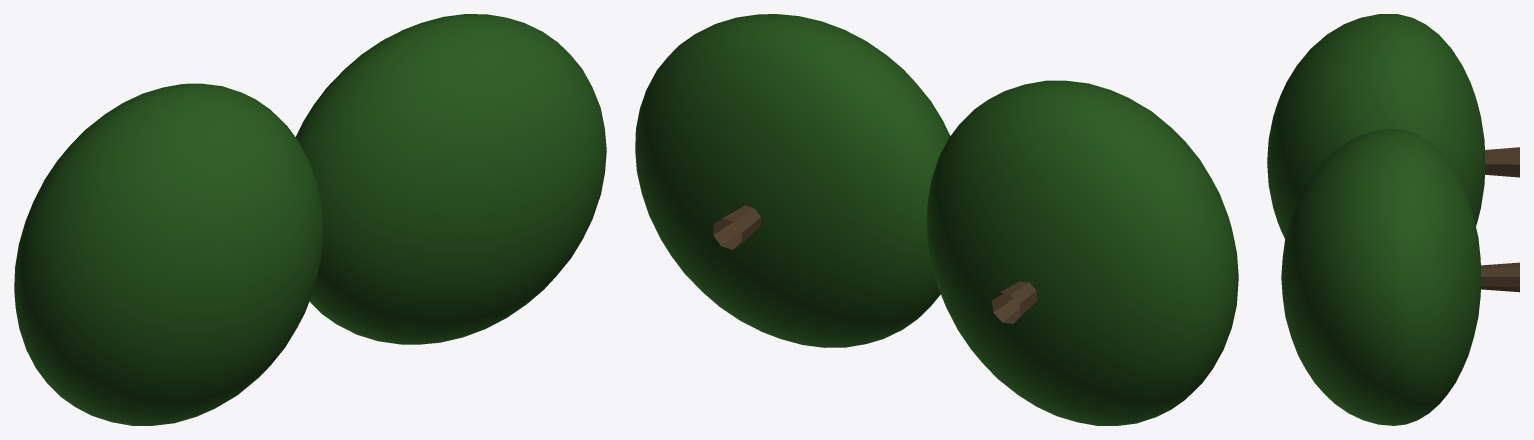
Rendered from citrus_plain2_e.obj.
3 renders of one model, left to right at view 1: azimuth 30°, elevation 25°; view 2: azimuth 150°, elevation 25°; view 3: azimuth 270°, elevation 25°, orthographic. The views are drawn at different scales.
Parts seen in each view (by area): view 1: canopy; view 2: canopy, trunk; view 3: canopy, trunk.
Boxes of the visible parts, box(x1,y1,x2,y2) form: canopy: box(14, 14, 606, 425); canopy: box(635, 14, 1238, 425); trunk: box(713, 205, 1037, 323); canopy: box(1267, 14, 1484, 425); trunk: box(1481, 147, 1519, 292).
Bounding box in the file's own units: 6.22 × 3.3 × 2.66.
